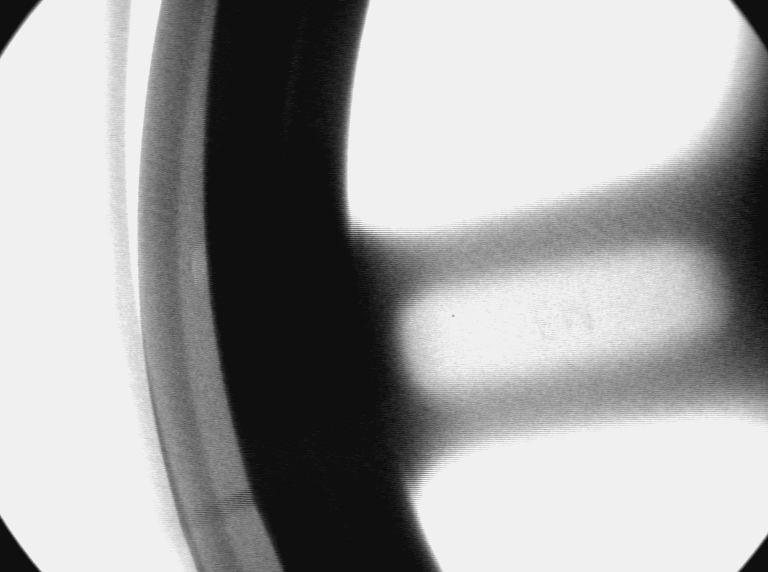defect: (187, 240, 217, 300)
